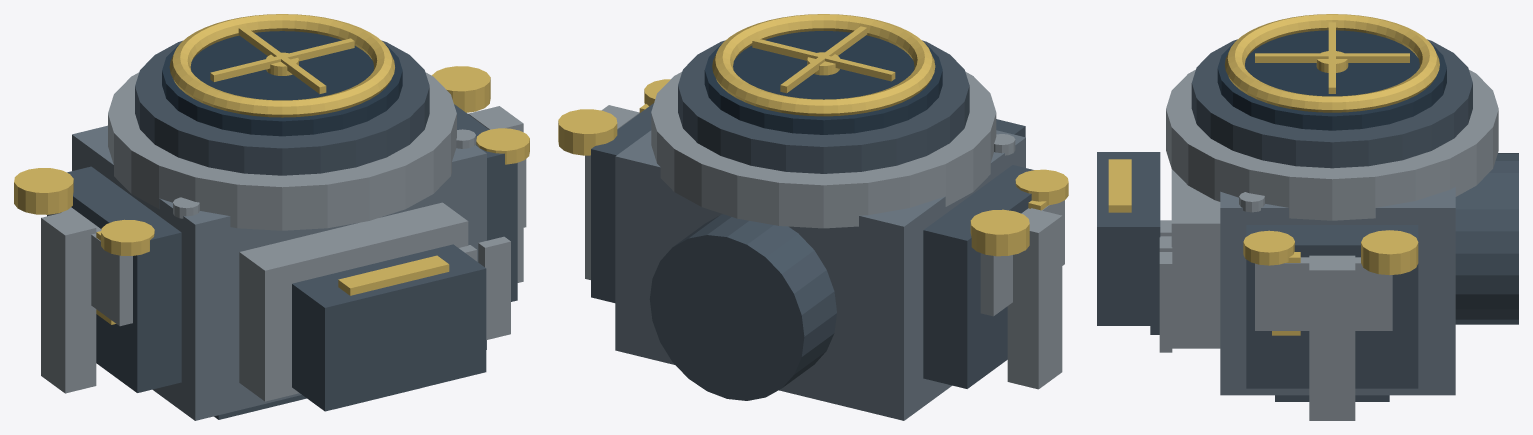
Rendered from mira2.glb.
3 views of the same model, side by side, from view 1: azimuth 30°, elevation 25°; view 2: azimuth 150°, elevation 25°; view 3: azimuth 270°, elevation 25° (orthographic). The views are drawn at different scales.
Parts seen in each view (by area): view 1: upper_rangefinder, outer_lens_bezel, main_sensor_housing, top_armor_cover, inner_gasket, sensor_glass, side_cheek_-1, reinforced_side_rail_-1, illuminated_target_ring, side_cheek_1, armored_guard_-1, top_heat_fin_2 (+10 smaller); view 2: main_sensor_housing, compact_mount_socket, outer_lens_bezel, inner_gasket, side_cheek_-1, sensor_glass, illuminated_target_ring, reinforced_side_rail_-1, side_cheek_1, side_sensor_-1, armored_guard_-1, side_sensor_1 (+4 smaller); view 3: outer_lens_bezel, main_sensor_housing, inner_gasket, side_cheek_1, sensor_glass, upper_rangefinder, compact_mount_socket, illuminated_target_ring, top_armor_cover, reinforced_side_rail_1, armored_guard_1, side_sensor_1 (+7 smaller).
Boxes of the visible parts, <box> form: upper_rangefinder: <box>292,244,486,411</box>; outer_lens_bezel: <box>108,72,456,230</box>; main_sensor_housing: <box>72,125,486,420</box>; top_armor_cover: <box>239,202,468,401</box>; inner_gasket: <box>135,40,429,175</box>; sensor_glass: <box>162,31,402,136</box>; side_cheek_-1: <box>47,166,181,392</box>; reinforced_side_rail_-1: <box>41,210,96,393</box>; illuminated_target_ring: <box>169,14,394,117</box>; side_cheek_1: <box>454,104,517,301</box>; armored_guard_-1: <box>47,207,132,326</box>; top_heat_fin_2: <box>478,236,510,339</box>; main_sensor_housing: <box>615,130,1025,420</box>; compact_mount_socket: <box>649,214,836,400</box>; outer_lens_bezel: <box>651,71,996,228</box>; inner_gasket: <box>678,40,969,173</box>; side_cheek_-1: <box>923,165,1033,388</box>; sensor_glass: <box>704,31,942,134</box>; illuminated_target_ring: <box>712,14,935,116</box>; reinforced_side_rail_-1: <box>1007,208,1062,389</box>; side_cheek_1: <box>591,103,653,302</box>; side_sensor_-1: <box>970,209,1029,256</box>; armored_guard_-1: <box>980,200,1064,316</box>; side_sensor_1: <box>558,109,617,155</box>; outer_lens_bezel: <box>1166,69,1498,220</box>; main_sensor_housing: <box>1220,187,1455,395</box>; inner_gasket: <box>1191,39,1472,168</box>; side_cheek_1: <box>1246,225,1418,388</box>; sensor_glass: <box>1217,30,1446,130</box>; upper_rangefinder: <box>1097,152,1160,325</box>; compact_mount_socket: <box>1455,153,1518,324</box>; illuminated_target_ring: <box>1224,14,1439,112</box>; top_armor_cover: <box>1171,169,1220,348</box>; reinforced_side_rail_1: <box>1309,255,1355,420</box>; armored_guard_1: <box>1255,257,1392,330</box>; side_sensor_1: <box>1361,230,1418,275</box>.
Size of the model in its own units: 1.8 by 1.17 by 1.47.
